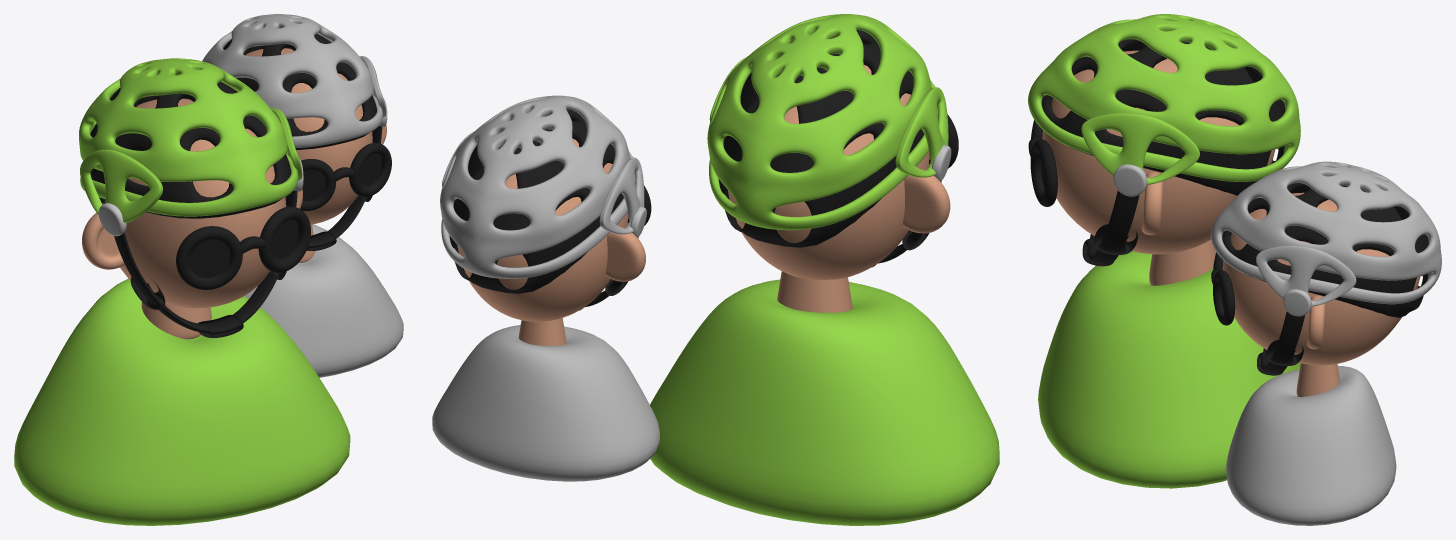
File: start-a-group-ride-animated-3d-icon-237521116240.glb
3 views of the same model, side by side, from view 1: azimuth 30°, elevation 25°; view 2: azimuth 150°, elevation 25°; view 3: azimuth 270°, elevation 25° (orthographic). The views are drawn at different scales.
Parts seen in each view (by area): view 1: Body.003, Helmet Outer.001, Helmet Outer.002, Shirt, Head.002, Sunglass.001, Helmet Inner.001, Sunglass.002, Head.004, Strap.001, Helmet Inner.002, Neck (+4 smaller); view 2: Body.003, Helmet Outer.001, Shirt, Helmet Outer.002, Head.002, Head.004, Helmet Inner.001, Helmet Inner.002, Neck, Neck.001; view 3: Body.003, Helmet Outer.001, Shirt, Helmet Outer.002, Head.002, Head.004, Helmet Inner.001, Helmet Inner.002, Neck, Sunglass.001, Strap.001, Neck.001 (+5 smaller).
Boxes of the visible parts, x1,y1,x2,y2 form: Body.003: (14,278,350,525); Helmet Outer.001: (79,58,302,223); Helmet Outer.002: (202,14,386,147); Shirt: (244,224,403,377); Head.002: (82,98,302,308); Sunglass.001: (176,206,310,289); Helmet Inner.001: (90,81,291,218); Sunglass.002: (300,143,391,210); Head.004: (245,48,386,224); Strap.001: (114,190,297,333); Helmet Inner.002: (223,34,376,149); Neck: (141,302,211,339); Body.003: (650,279,999,525); Helmet Outer.001: (707,14,948,230); Shirt: (432,325,659,481); Helmet Outer.002: (440,95,644,278); Head.002: (728,65,950,279); Head.004: (457,139,645,321); Helmet Inner.001: (718,30,931,247); Helmet Inner.002: (449,109,630,293); Neck: (777,271,852,312); Neck.001: (518,318,566,345); Body.003: (1038,251,1300,488); Helmet Outer.001: (1028,14,1300,184); Shirt: (1226,366,1396,525); Helmet Outer.002: (1210,161,1441,306); Head.002: (1042,50,1275,254); Head.004: (1222,192,1420,365); Helmet Inner.001: (1041,39,1285,195); Helmet Inner.002: (1222,183,1428,317); Neck: (1149,240,1216,285); Sunglass.001: (1028,120,1057,206); Strap.001: (1089,190,1139,263); Neck.001: (1296,363,1339,396).
Bounding box in the file's own units: 1.67 × 1.56 × 1.4.
